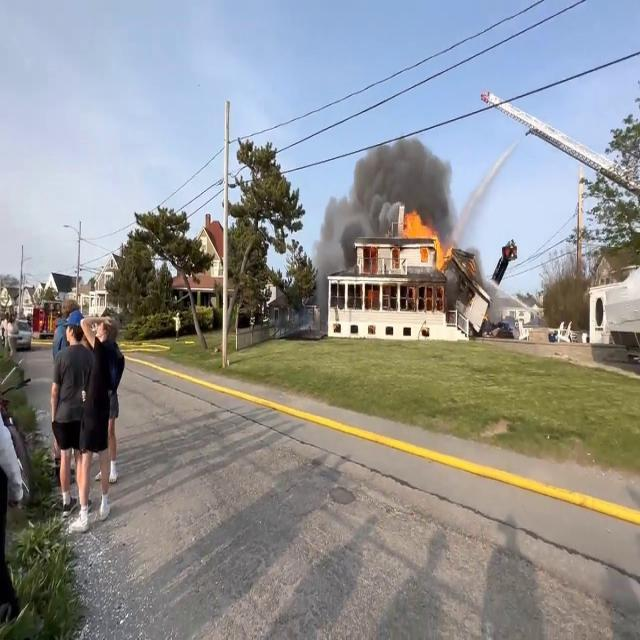Fire: (398, 206, 454, 267)
Smoke: (320, 122, 462, 244)
